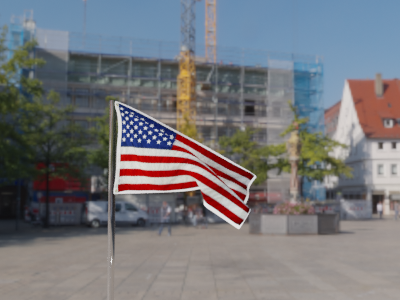America flag: (114, 102, 258, 231)
